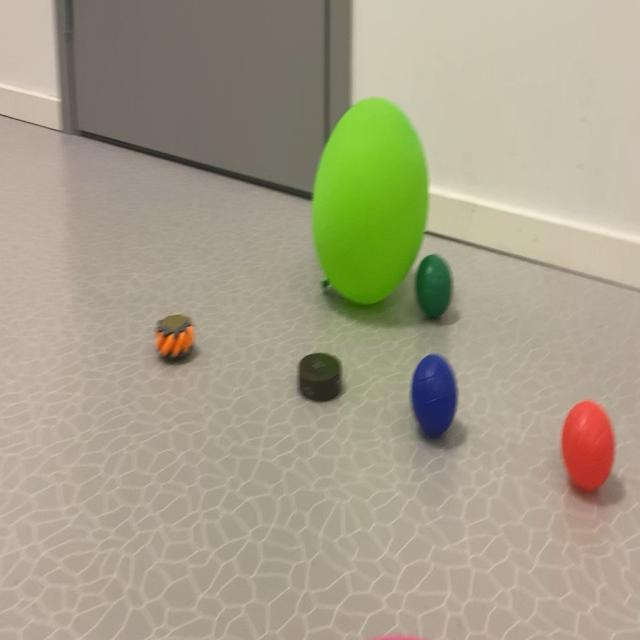blue ball: (408, 357, 460, 441)
green ball: (414, 251, 456, 325)
red ball: (563, 403, 615, 492)
